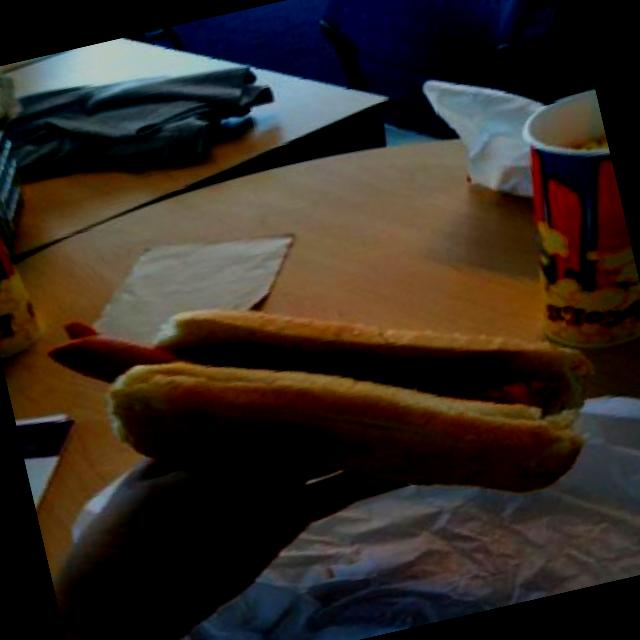Person: (29, 397, 430, 640)
